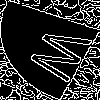W: (25, 25, 100, 88)
